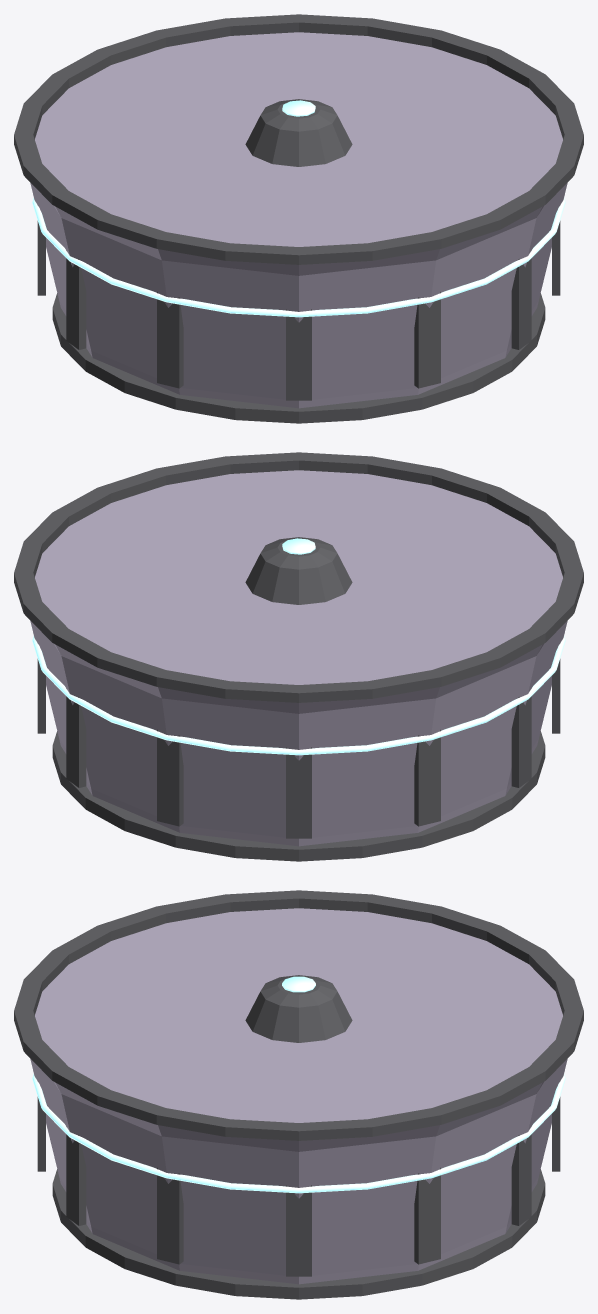
The model's file is v_bp_command_table.glb.
3 views of the same model, one above another, from view 1: azimuth 30°, elevation 25°; view 2: azimuth 150°, elevation 25°; view 3: azimuth 270°, elevation 25° (orthographic).
Visible parts, largest first — view 1: CommandTable; view 2: CommandTable; view 3: CommandTable.
Boxes of the visible parts, x1,y1,x2,y2 form: CommandTable: [14, 14, 583, 423]; CommandTable: [14, 452, 583, 861]; CommandTable: [14, 890, 583, 1299].
Bounding box in the file's own units: 2.66 × 1.09 × 2.66.
